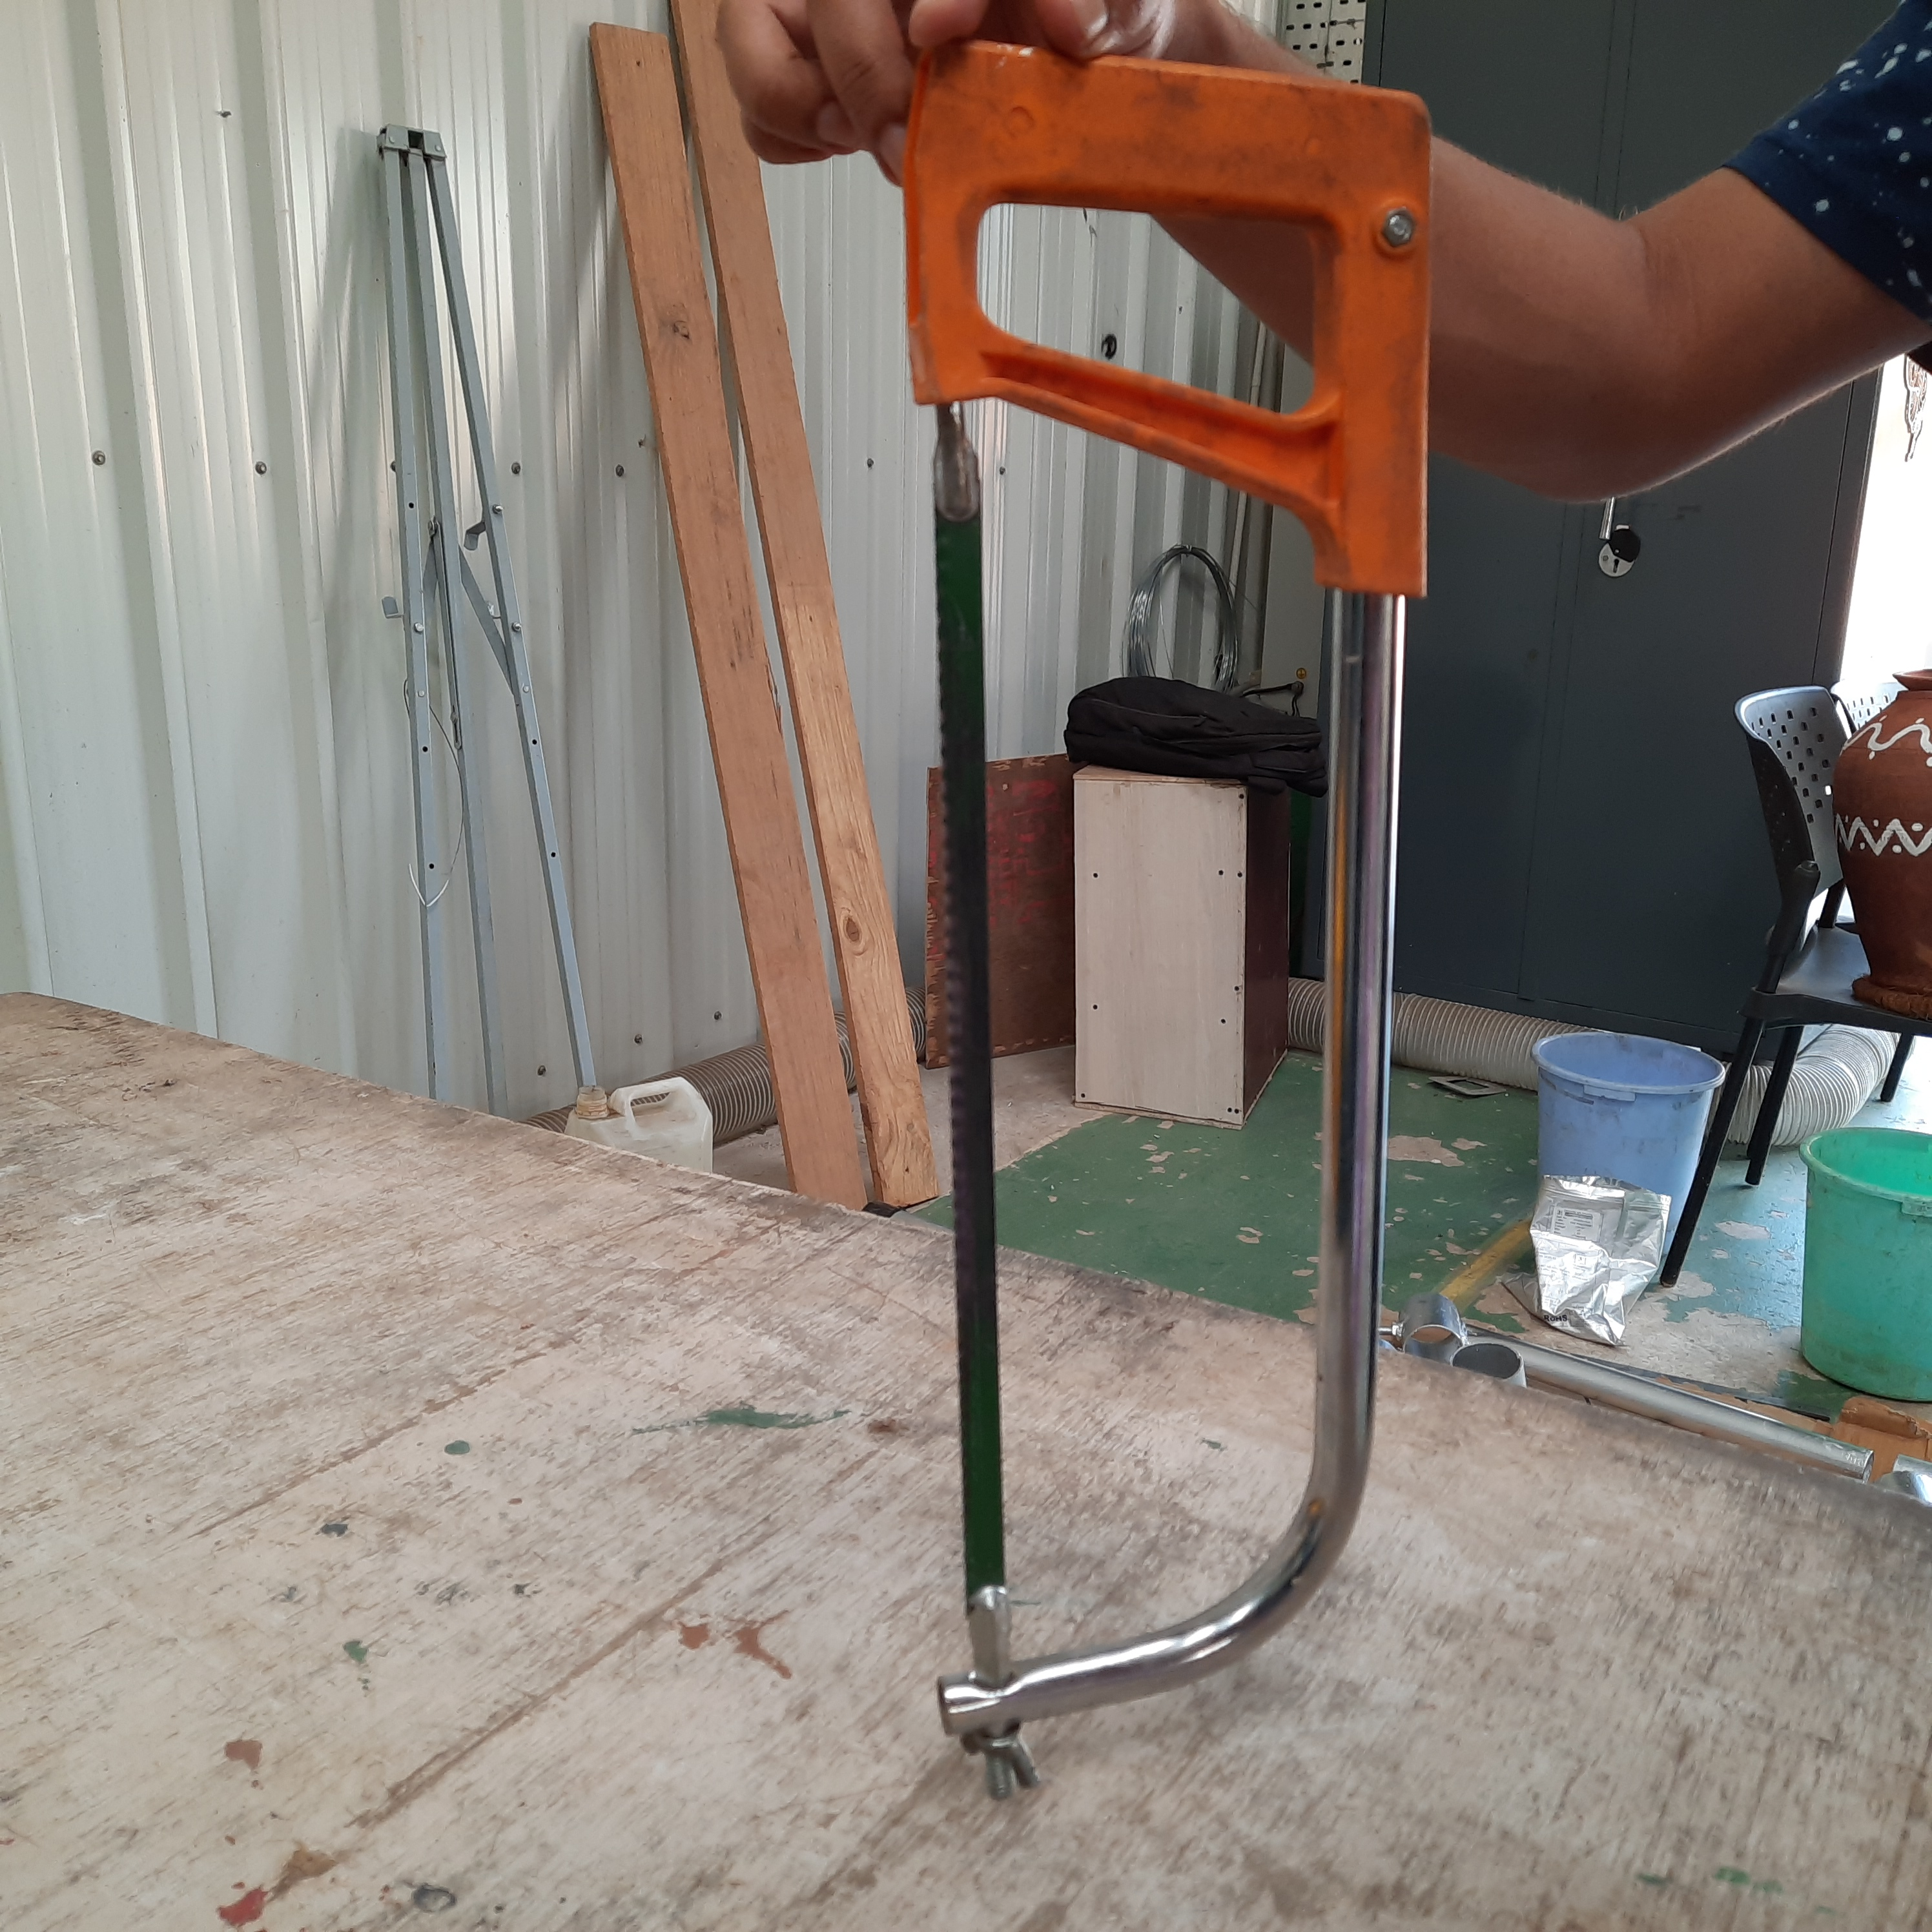Hexaframe: (890, 25, 1444, 1760)
